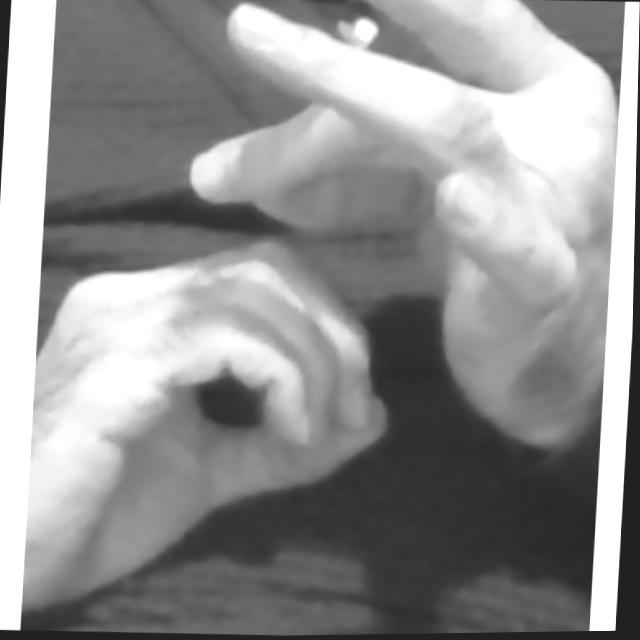O--: (18, 0, 623, 633)
